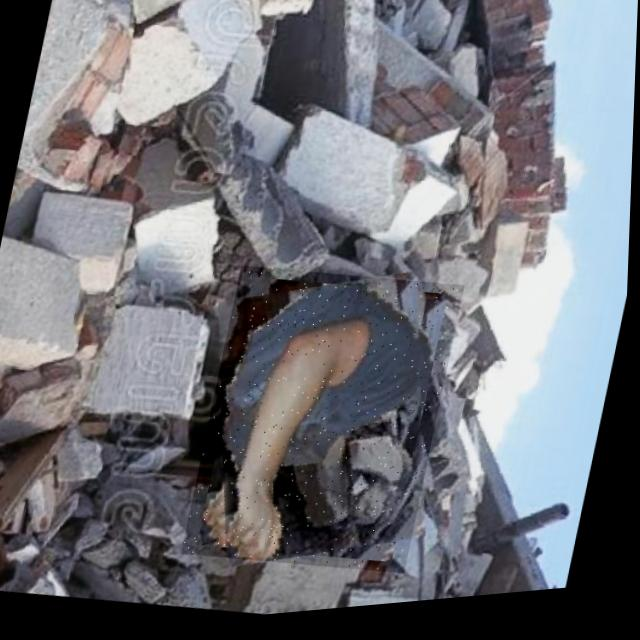Person in Rubble: (182, 254, 467, 597)
